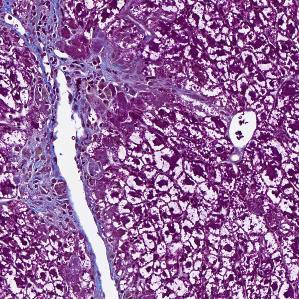fibrosis: (69, 42, 156, 124)
